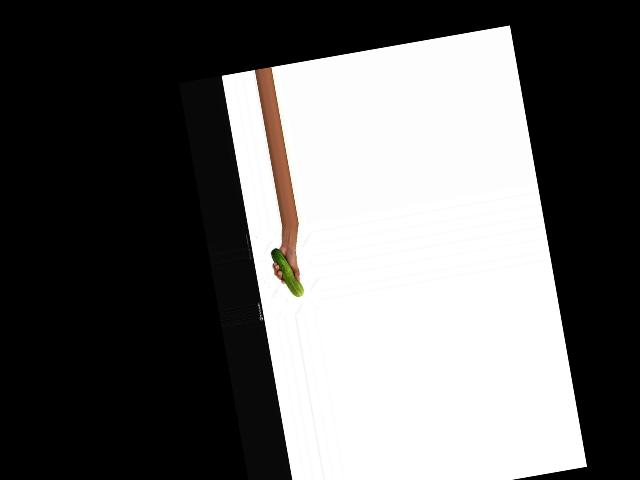cucumber: (270, 244, 304, 299)
